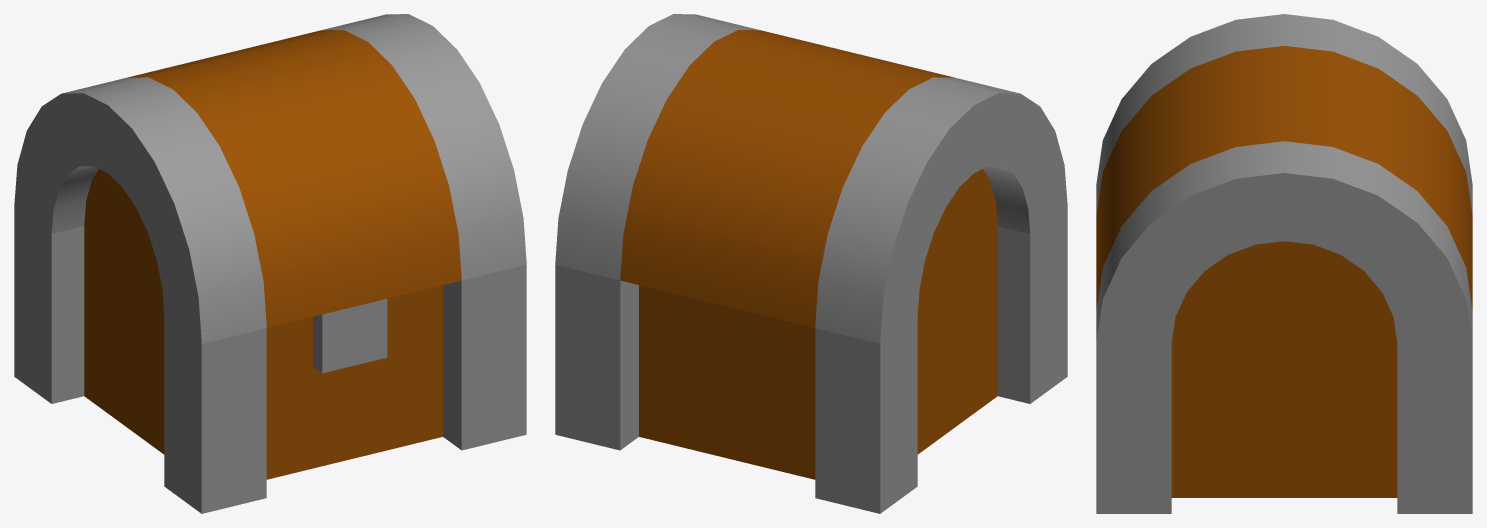
Rendered from chest.gltf.
The picture shows the model from 3 angles, left to right: view 1: azimuth 30°, elevation 25°; view 2: azimuth 150°, elevation 25°; view 3: azimuth 270°, elevation 25°; orthographic projection.
Parts seen in each view (by area): view 1: chest; view 2: chest; view 3: chest.
Part boxes in pixels (box(x1,y1,x2,y2)): chest: box(14, 14, 526, 513); chest: box(555, 14, 1067, 513); chest: box(1096, 14, 1472, 513).
Bounding box in the file's own units: 1.81 × 1.81 × 1.81.
